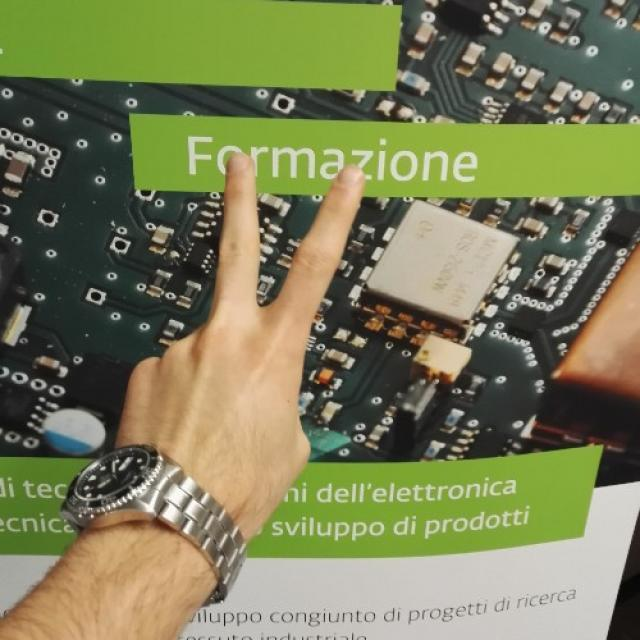scissors: (115, 148, 368, 450)
